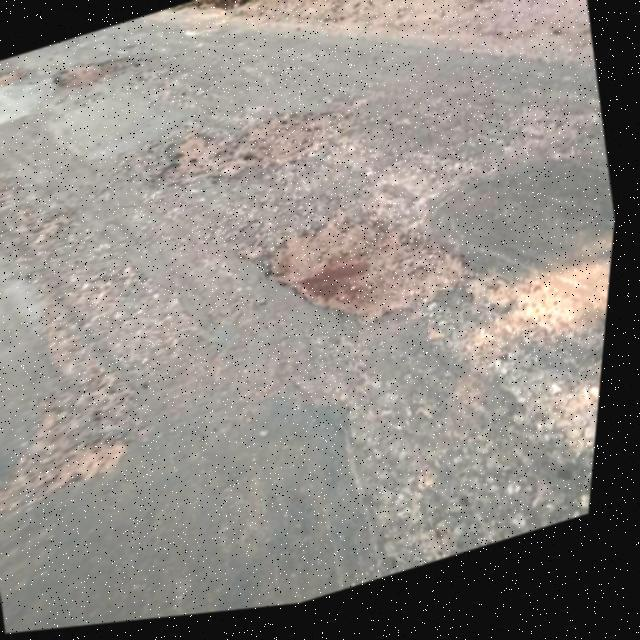pothole: (224, 156, 500, 388), (126, 73, 378, 227), (0, 408, 159, 523), (39, 28, 148, 112), (0, 52, 38, 116)
